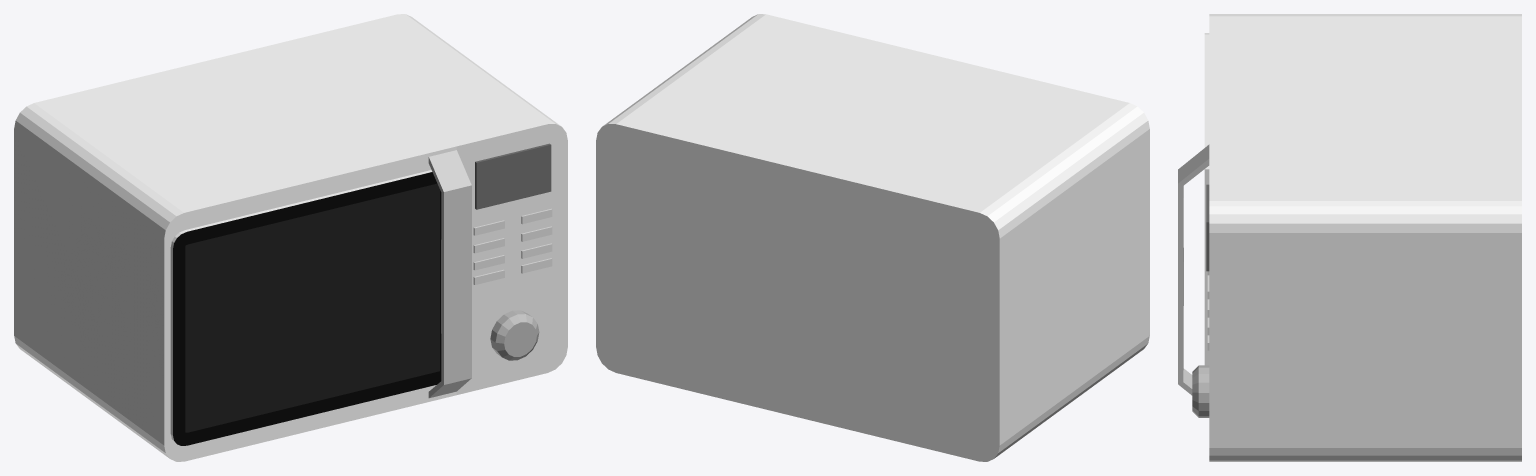
Rendered from Prop_Microwave_01.fbx.
3 views of the same model, side by side, from view 1: azimuth 30°, elevation 25°; view 2: azimuth 150°, elevation 25°; view 3: azimuth 270°, elevation 25° (orthographic). The views are drawn at different scales.
Visible parts, largest first — view 1: Prop_Microwave_01; view 2: Prop_Microwave_01; view 3: Prop_Microwave_01.
Part boxes in pixels (x1,y1,x2,y2): Prop_Microwave_01: [14, 14, 567, 461]; Prop_Microwave_01: [596, 14, 1149, 461]; Prop_Microwave_01: [1178, 14, 1521, 461].
Size of the model in its own units: 51.39 by 30.27 by 36.42.
